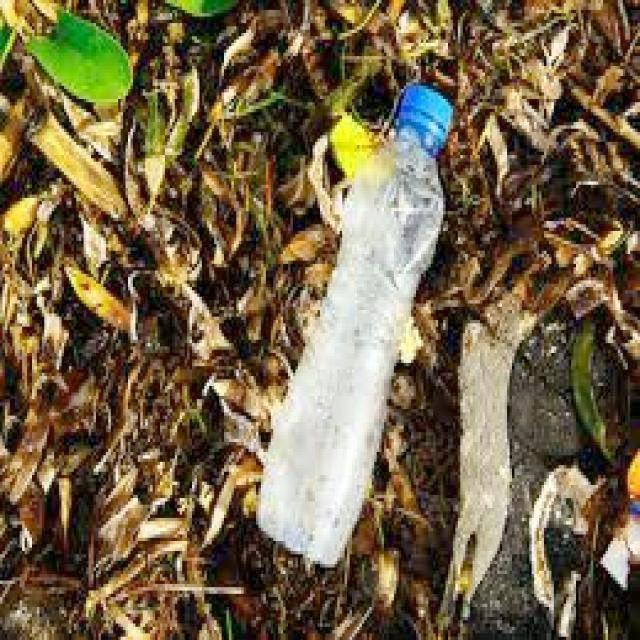bottle: (256, 86, 453, 569)
